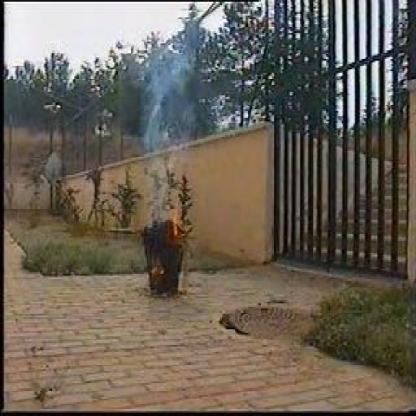-: (139, 63, 170, 160)
foggia-v2-map80-epoch100 - v1 4323: (172, 183, 184, 240)
